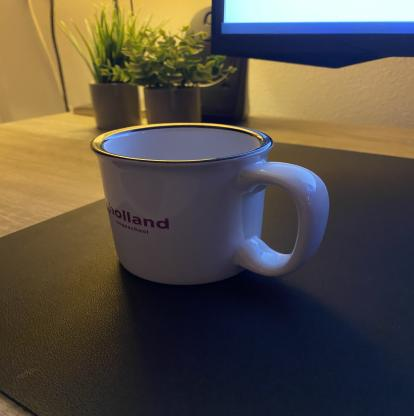Cup: (88, 120, 335, 288)
